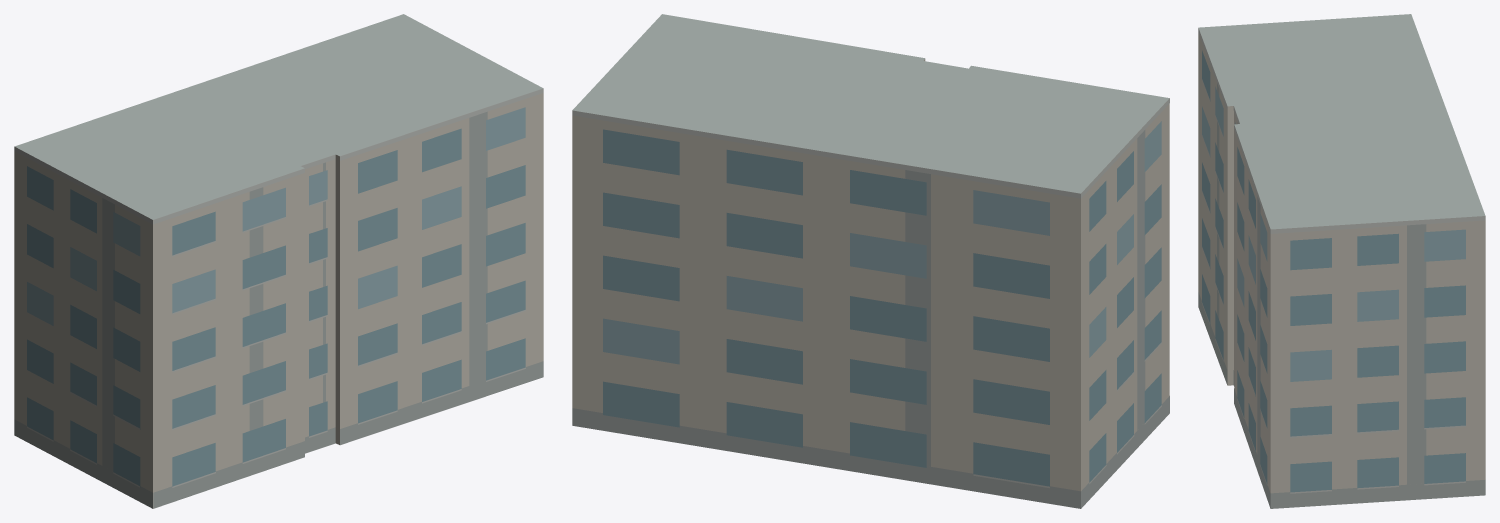
Rendered from survey-upis-33015807.glb.
3 views of the same model, side by side, from view 1: azimuth 30°, elevation 25°; view 2: azimuth 150°, elevation 25°; view 3: azimuth 270°, elevation 25° (orthographic). The views are drawn at different scales.
Visible parts, largest first — view 1: survey-upis-33015807.tmp; view 2: survey-upis-33015807.tmp; view 3: survey-upis-33015807.tmp.
Part boxes in pixels (box(x1,y1,x2,y2)): survey-upis-33015807.tmp: box(14, 14, 543, 508); survey-upis-33015807.tmp: box(572, 14, 1169, 508); survey-upis-33015807.tmp: box(1198, 14, 1485, 508).
Bounding box in the file's own units: 25.23 × 15.25 × 14.21.
